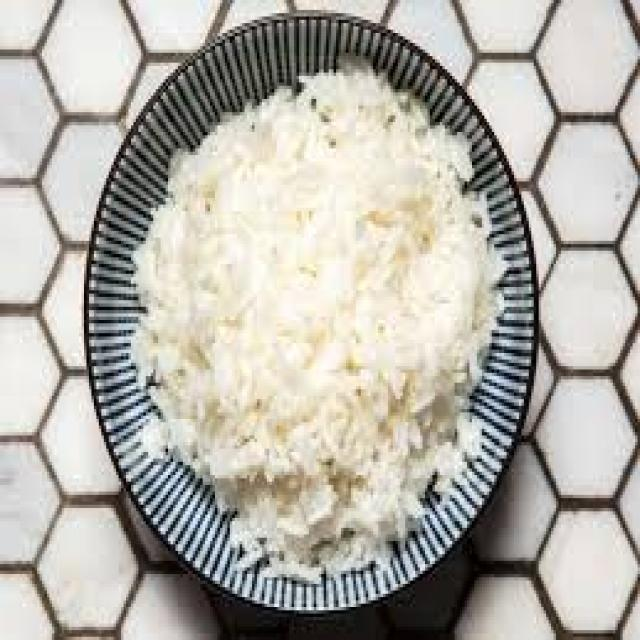White Rice: (93, 49, 520, 589)
